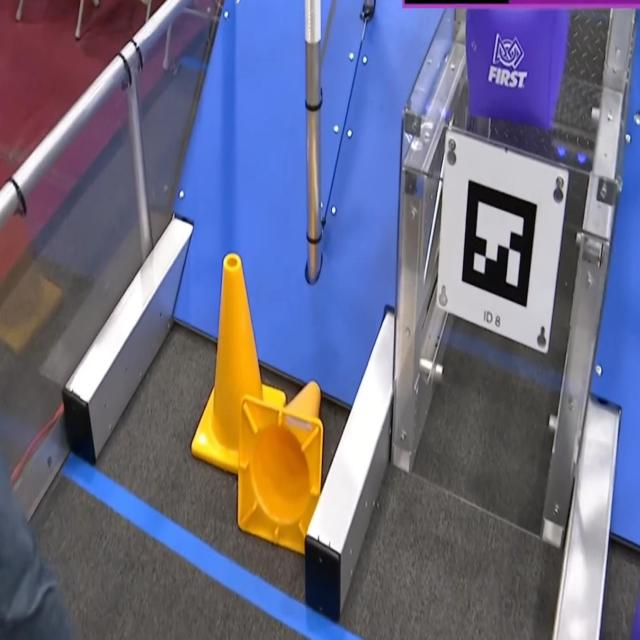frc_cone: (191, 252, 286, 488), (236, 382, 324, 548)
frc_cube: (465, 0, 565, 132)
